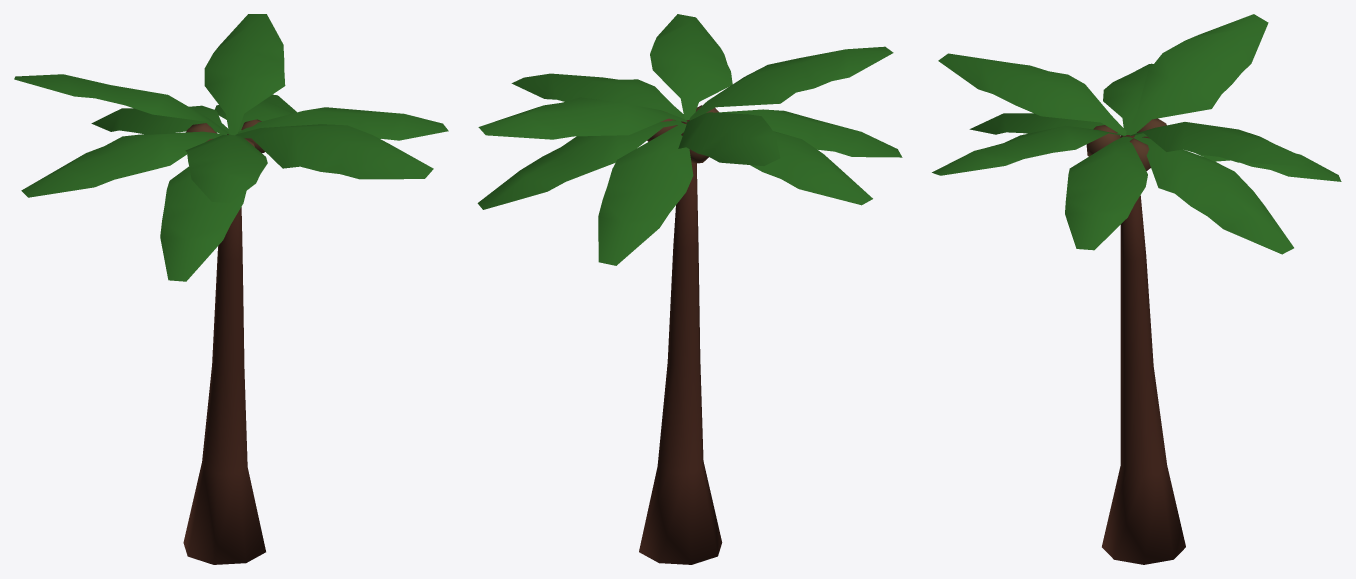
The model's file is SM_palmtree_04_LOD2.fbx.
3 renders of one model, left to right at view 1: azimuth 30°, elevation 25°; view 2: azimuth 150°, elevation 25°; view 3: azimuth 270°, elevation 25°, orthographic. The views are drawn at different scales.
Visible parts, largest first — view 1: Palm_tree_01; view 2: Palm_tree_01; view 3: Palm_tree_01.
Boxes of the visible parts, x1,y1,x2,y2 form: Palm_tree_01: (14, 14, 448, 564); Palm_tree_01: (477, 14, 902, 564); Palm_tree_01: (932, 14, 1341, 564).
Size of the model in its own units: 519 by 599 by 483.
